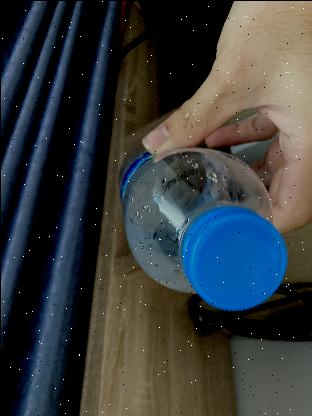Plastic Bottle: (115, 144, 288, 312)
